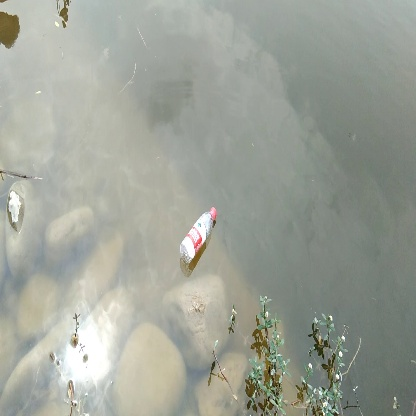bottle: (180, 205, 222, 265)
